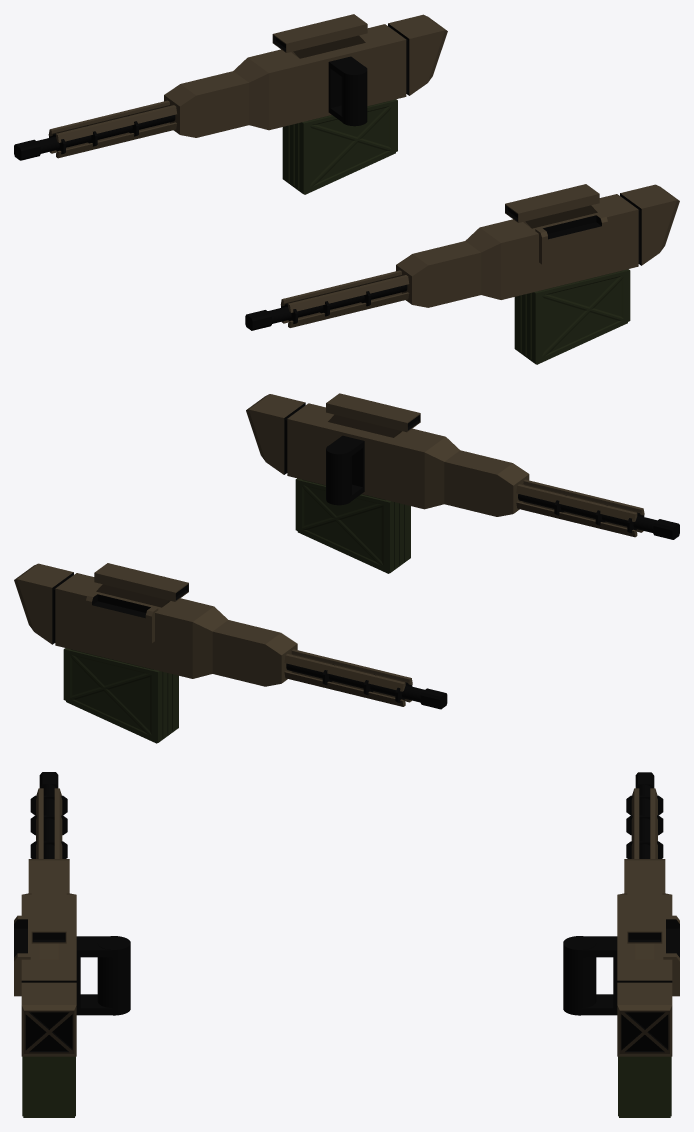
The model's file is boss_guns.fbx.
The picture shows the model from 3 angles, top to bottom: view 1: azimuth 30°, elevation 25°; view 2: azimuth 150°, elevation 25°; view 3: azimuth 270°, elevation 25°; orthographic projection. The views are drawn at different scales.
Visible parts, largest first — view 1: weapon_right, weapon_left, weapon_magazine_right, weapon_magazine_left, weapon_cylinder_3_left, weapon_barrel_right, weapon_barrel_left, weapown_hinge_left; view 2: weapon_left, weapon_right, weapon_magazine_left, weapon_magazine_right, weapon_cylinder_3_right, weapon_barrel_right, weapon_barrel_left, weapown_hinge_right; view 3: weapon_left, weapon_right, weapon_magazine_left, weapon_magazine_right, weapon_cylinder_3_left, weapon_cylinder_3_right, weapown_hinge_left, weapown_hinge_right, weapon_barrel_right, weapon_barrel_left.
Boxes of the visible parts, x1,y1,x2,y2 form: weapon_right: (280, 184, 679, 327); weapon_left: (48, 14, 447, 158); weapon_magazine_right: (514, 269, 630, 364); weapon_magazine_left: (282, 99, 397, 194); weapon_cylinder_3_left: (341, 64, 367, 126); weapon_barrel_right: (268, 284, 407, 323); weapon_barrel_left: (36, 115, 175, 153); weapown_hinge_left: (328, 56, 363, 122); weapon_left: (14, 563, 412, 706); weapon_right: (246, 393, 644, 537); weapon_magazine_left: (63, 648, 178, 743); weapon_magazine_right: (295, 478, 410, 573); weapon_cylinder_3_right: (326, 443, 351, 505); weapon_barrel_right: (518, 494, 657, 532); weapon_barrel_left: (286, 663, 424, 702); weapown_hinge_right: (330, 435, 364, 501); weapon_left: (617, 788, 679, 1056); weapon_right: (14, 788, 76, 1056); weapon_magazine_left: (618, 1056, 671, 1117); weapon_magazine_right: (22, 1056, 75, 1117); weapon_cylinder_3_left: (563, 936, 596, 1015); weapon_cylinder_3_right: (97, 936, 130, 1015); weapown_hinge_left: (581, 936, 617, 1015); weapown_hinge_right: (76, 936, 112, 1015); weapon_barrel_right: (42, 784, 56, 858); weapon_barrel_left: (638, 785, 651, 858).
Bounding box in the file's own units: 210 × 72.64 × 224.
